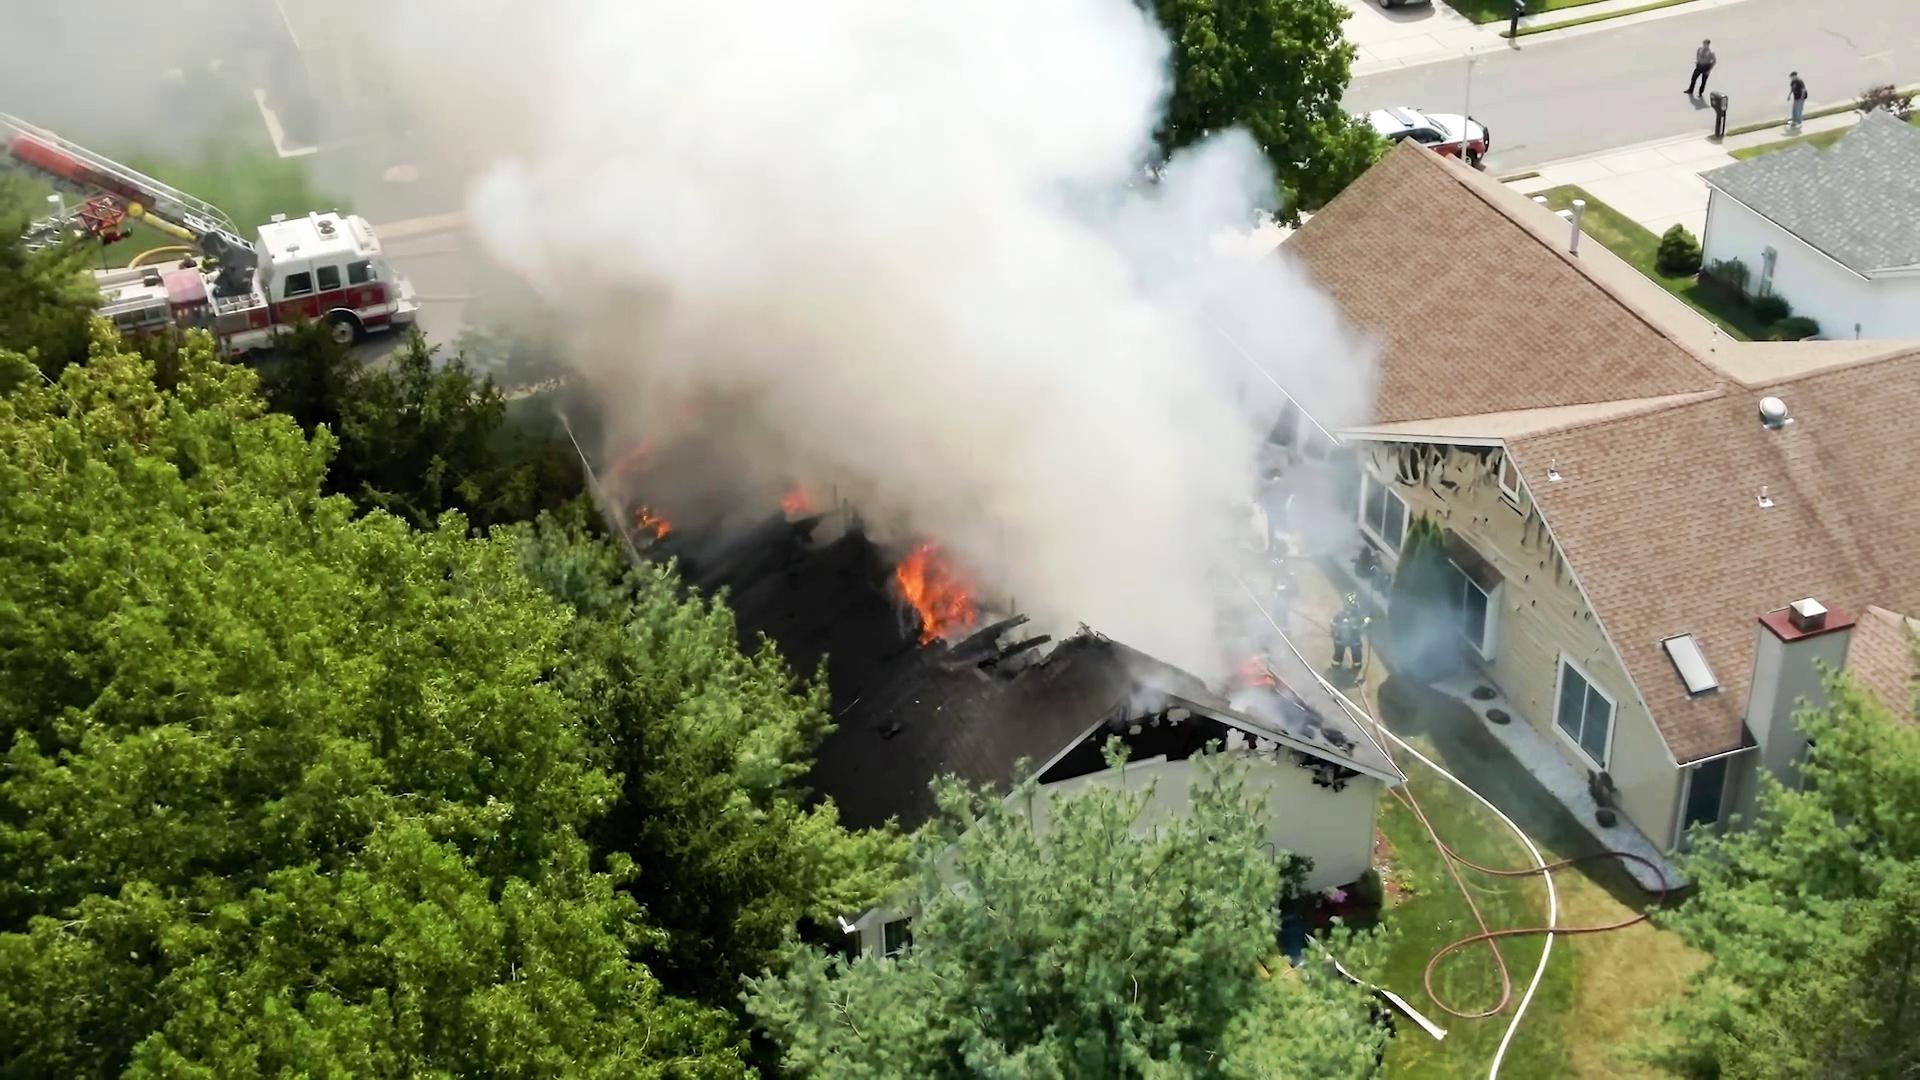fire: (868, 534, 1013, 647)
smoke: (591, 0, 957, 365), (945, 154, 1280, 542), (748, 0, 1121, 198)
